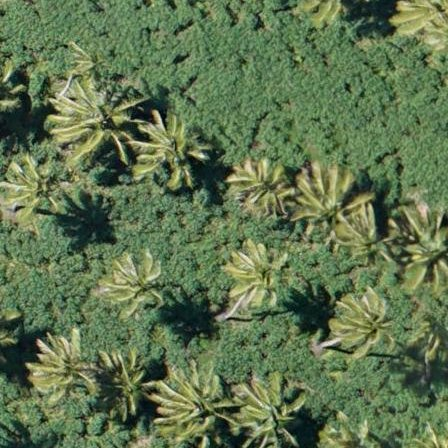palm_tree: (147, 358, 231, 443), (30, 328, 108, 411), (331, 279, 407, 361), (224, 234, 300, 314), (228, 375, 308, 448), (55, 82, 125, 157), (140, 111, 209, 187), (99, 251, 172, 319), (97, 349, 153, 421), (1, 155, 61, 220), (295, 169, 351, 238), (397, 214, 448, 280), (231, 159, 290, 215)
